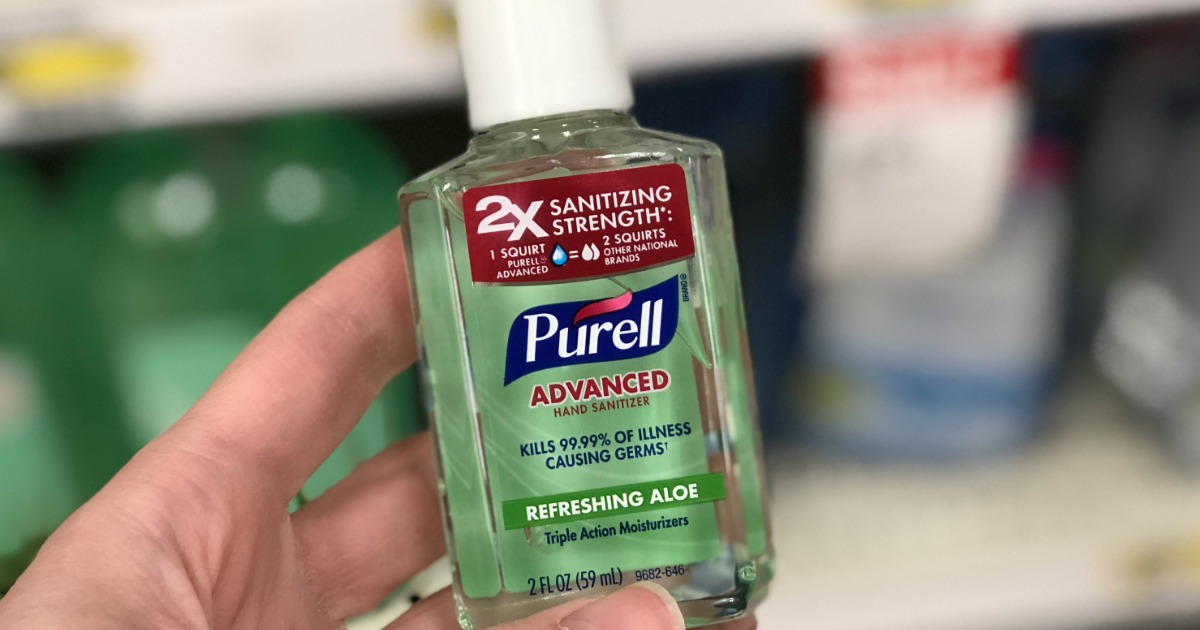Sanitizer: (387, 2, 787, 628)
